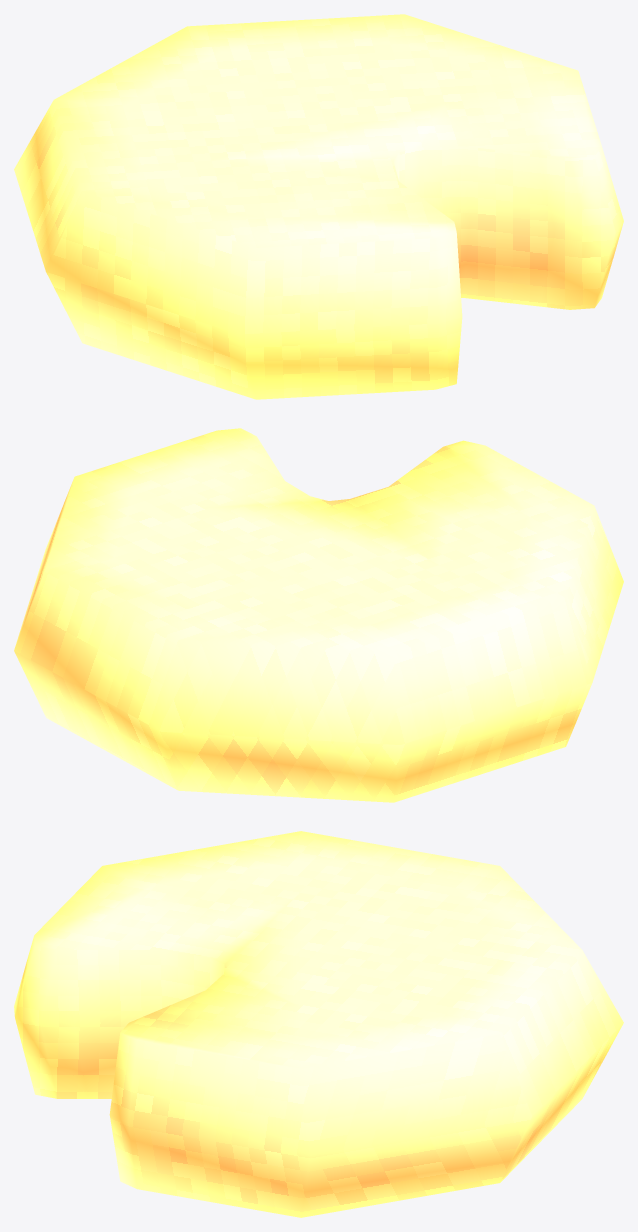
File: cheese.glb
3 views of the same model, one above another, from view 1: azimuth 30°, elevation 25°; view 2: azimuth 150°, elevation 25°; view 3: azimuth 270°, elevation 25° (orthographic).
Parts seen in each view (by area): view 1: Cheese; view 2: Cheese; view 3: Cheese.
Boxes of the visible parts, x1,y1,x2,y2 form: Cheese: (14,14,623,399); Cheese: (14,428,623,802); Cheese: (14,831,623,1217).
Size of the model in its own units: 2.23 by 0.5844 by 2.17.
